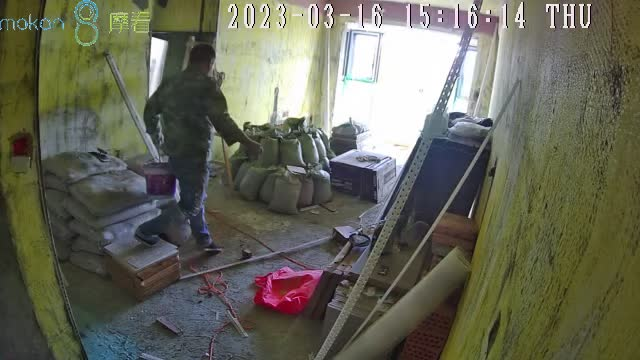people: (134, 45, 263, 253)
window: (337, 21, 473, 142)
